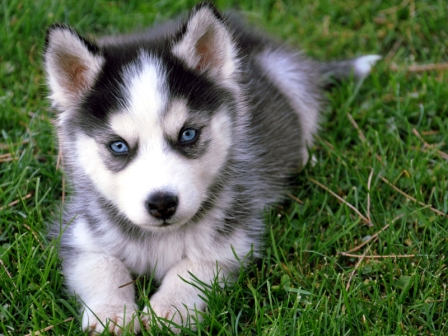husky: (39, 1, 302, 332)
